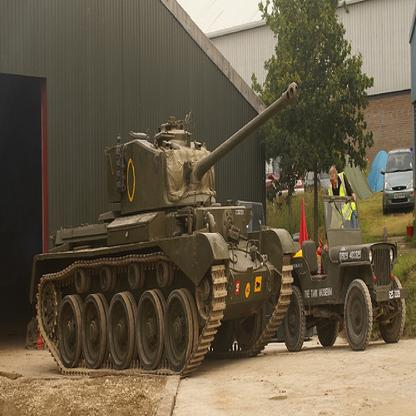Tank: (28, 79, 301, 378)
